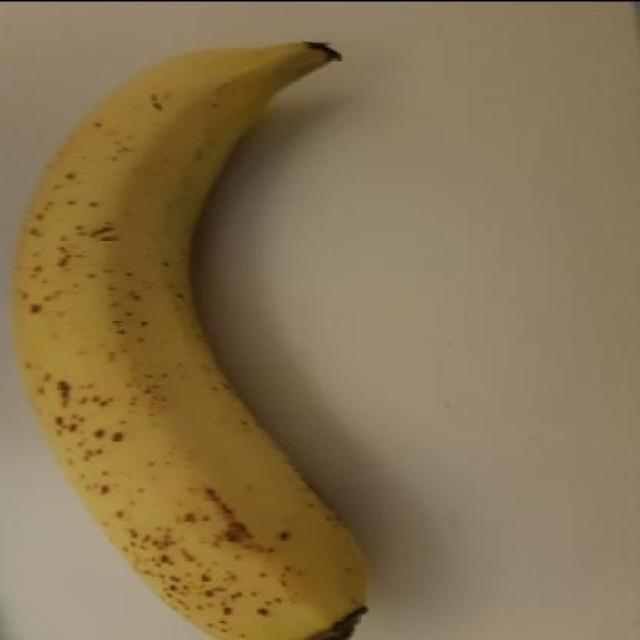Banana: (8, 38, 370, 638)
